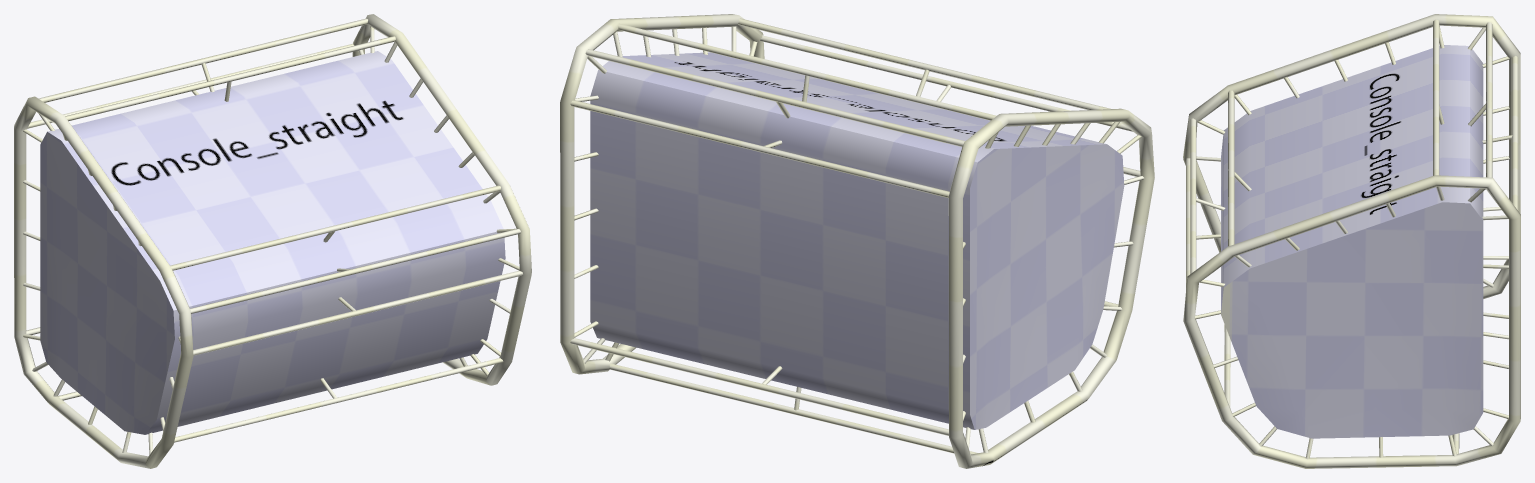
The model's file is console_straight.fbx.
The picture shows the model from 3 angles, left to right: view 1: azimuth 30°, elevation 25°; view 2: azimuth 150°, elevation 25°; view 3: azimuth 270°, elevation 25°; orthographic projection. The views are drawn at different scales.
Parts seen in each view (by area): view 1: console_straight; view 2: console_straight; view 3: console_straight.
Part boxes in pixels (bbox=[...]): console_straight: bbox=[14, 14, 531, 468]; console_straight: bbox=[560, 14, 1154, 468]; console_straight: bbox=[1183, 14, 1520, 468].
Size of the model in its own units: 179 by 142 by 150.
